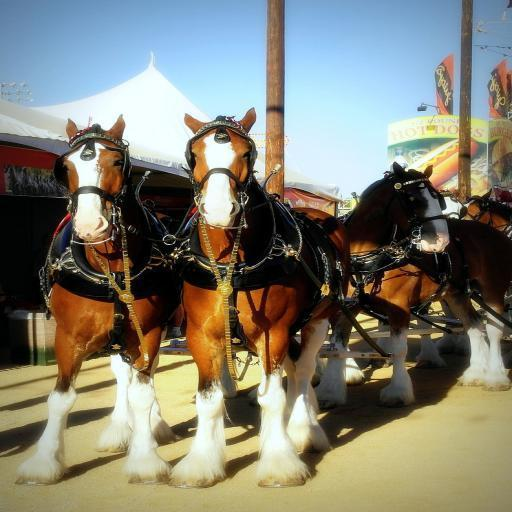horse: (10, 107, 511, 488), (9, 114, 186, 488), (167, 106, 334, 490), (310, 160, 512, 410)
